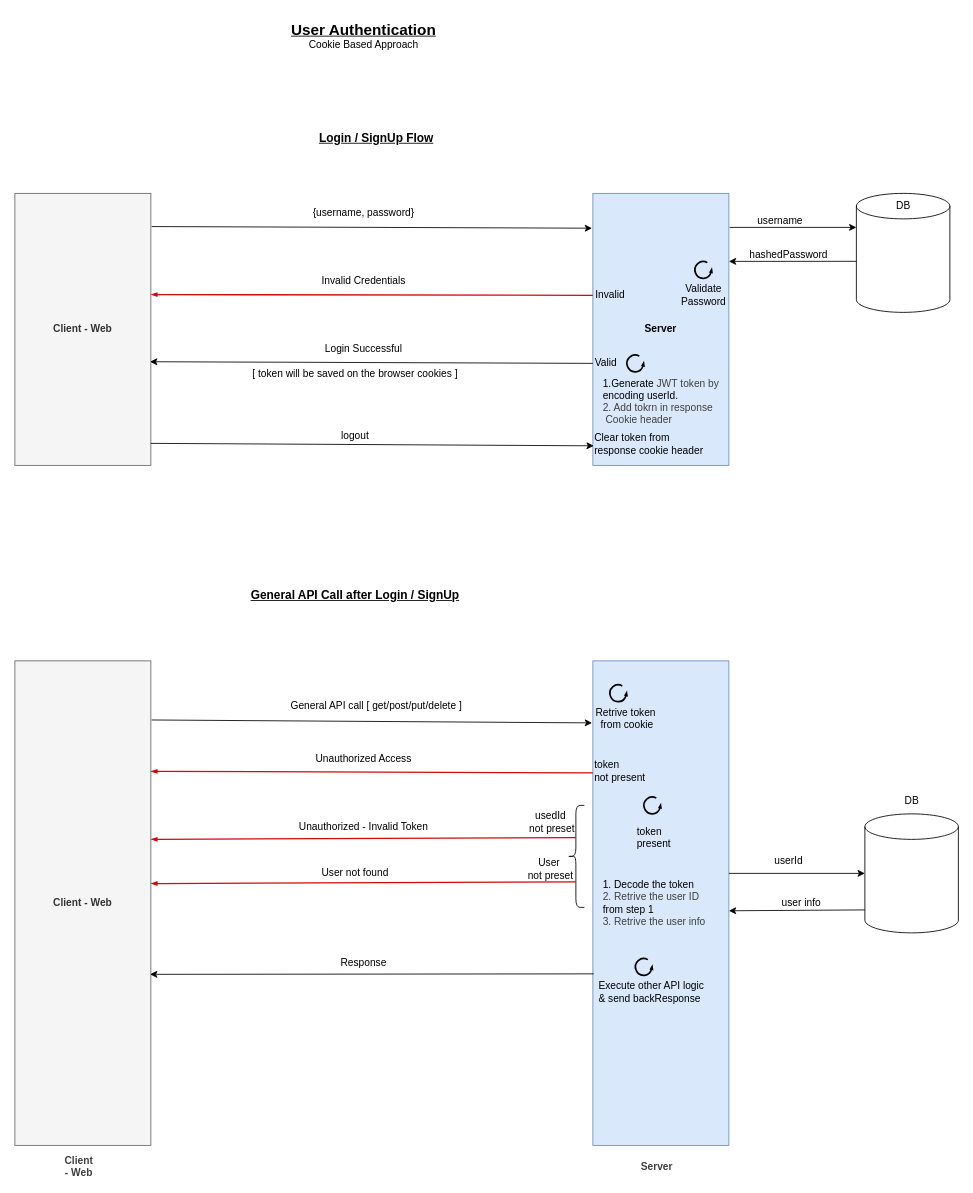
Image size: 973x1193. Some labels were removed from this diagram. The shapes that lost their labels are listed below. From the top down, each one's box as (x1, y1, x2, y2) in pixels, then its label:
(856, 193, 950, 312): username hasedPassword
(864, 813, 958, 933): User Data
